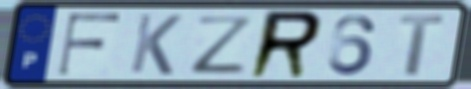6: (327, 13, 378, 77)
F: (54, 11, 125, 77)
K: (127, 12, 185, 77)
R: (245, 8, 327, 82)
T: (397, 13, 448, 78)
Z: (190, 14, 259, 75)
